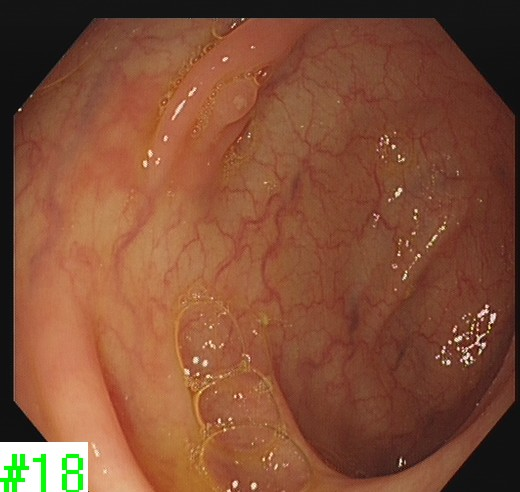adenoma: (213, 77, 261, 125)
